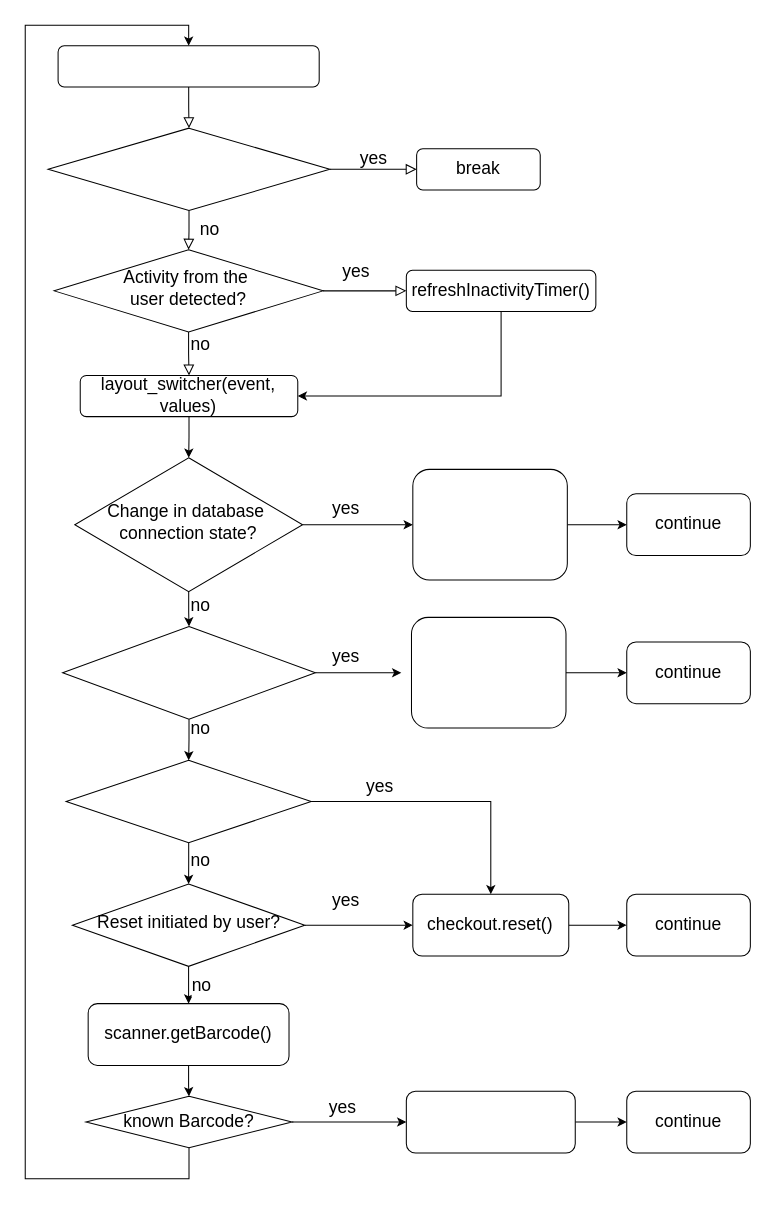
This 768x1205 diagram has some shape labels left out. Each missing label, with the centre of its shape:
"Add scanned object to checkout" belongs at (490,1121).
"Application closed by user?" belongs at (188,169).
"Checkout initiated by user?" belongs at (188,672).
"Inactivity timer expired?" belongs at (188,801).
"issue CHECKOUT EVENT" belongs at (488,672).
"issue DATABASE CONNECTION EVENT" belongs at (489,524).
"window.read(timeout=1000)" belongs at (188,66).
